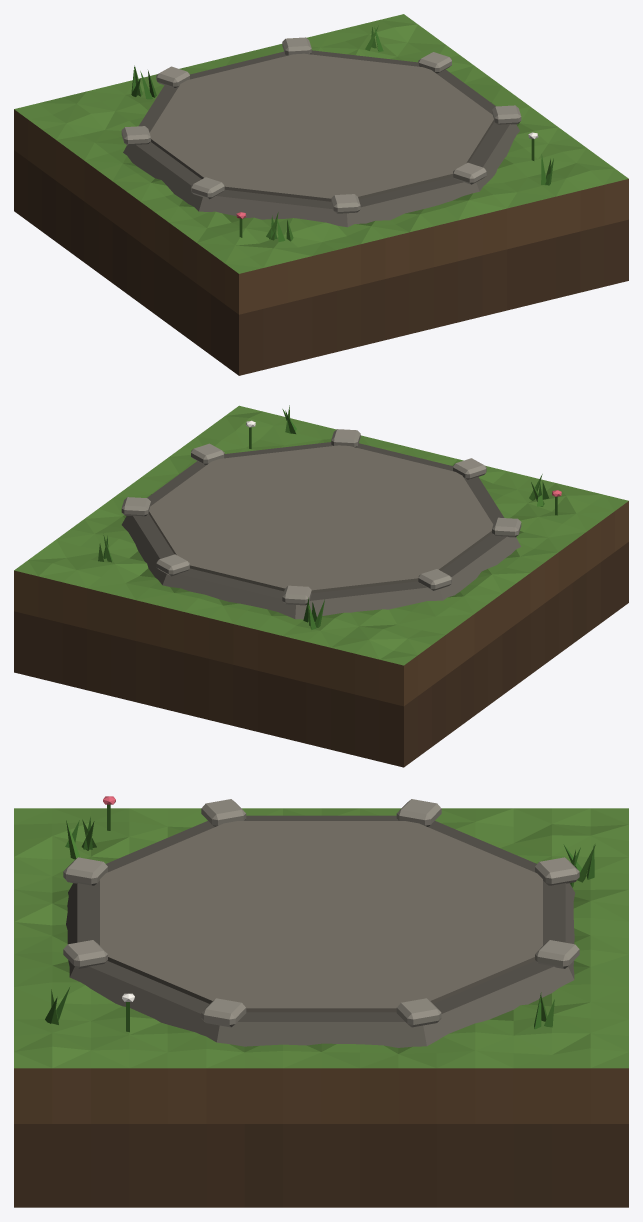
File: plot.glb
The picture shows the model from 3 angles, top to bottom: view 1: azimuth 30°, elevation 25°; view 2: azimuth 150°, elevation 25°; view 3: azimuth 270°, elevation 25°; orthographic projection. The views are drawn at different scales.
Visible parts, largest first — view 1: Plot; view 2: Plot; view 3: Plot.
Boxes of the visible parts, box(x1,y1,x2,y2) form: Plot: box(14, 14, 628, 375); Plot: box(14, 405, 628, 767); Plot: box(14, 796, 628, 1207).
Bounding box in the file's own units: 2 × 0.6396 × 2.
